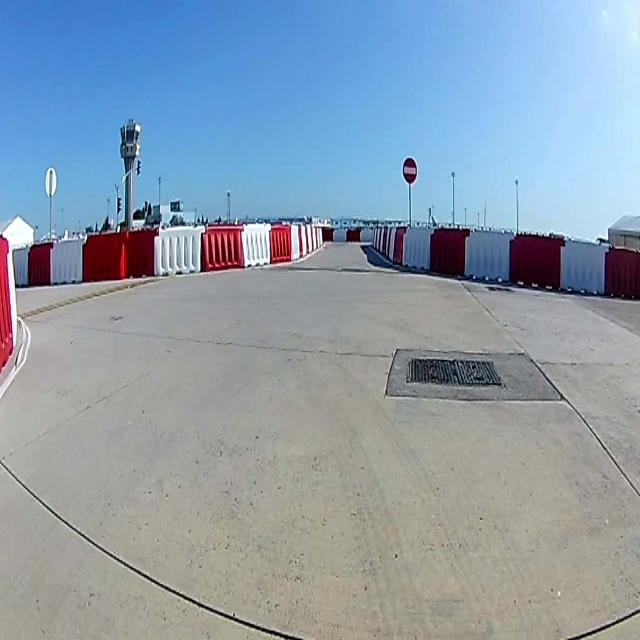girisyok: (402, 154, 417, 183)
